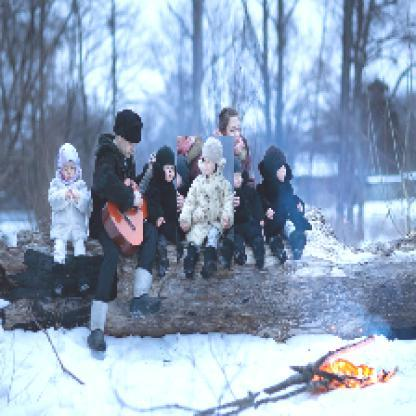child: (178, 137, 236, 281), (47, 144, 94, 295), (257, 145, 316, 264), (145, 144, 194, 278), (221, 155, 275, 272)
